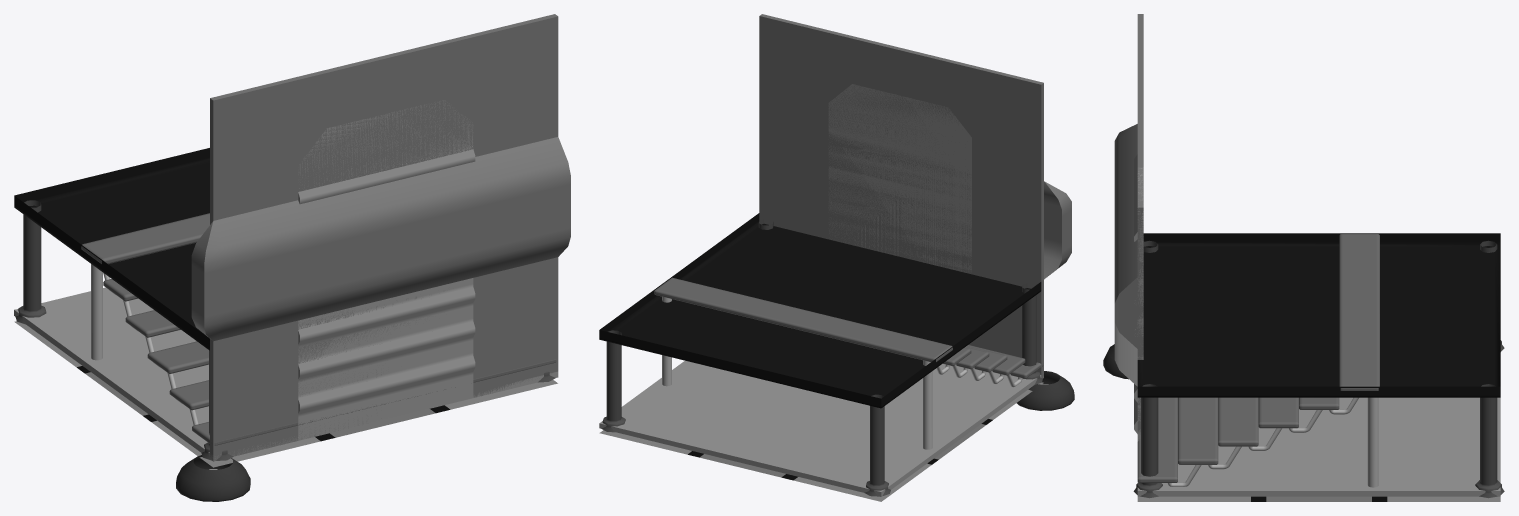
The model's file is SlimyModels_BaseModularPieces.fbx.
3 renders of one model, left to right at view 1: azimuth 30°, elevation 25°; view 2: azimuth 150°, elevation 25°; view 3: azimuth 270°, elevation 25°, orthographic. The views are drawn at different scales.
Parts seen in each view (by area): view 1: Wall3m, DoorFrame3m, Door, Support, Ceiling3m, Stairs, Floor3m, WallCorner3m, Light, CornerFill; view 2: Wall3m, Support, DoorFrame3m, Ceiling3m, Door, Stairs, Floor3m, CornerFill, Light, WallCorner3m; view 3: Support, Ceiling3m, Stairs, Wall3m, DoorFrame3m, Floor3m, Door.
Boxes of the visible parts, x1,y1,x2,y2 form: Wall3m: (210, 14, 570, 461); DoorFrame3m: (212, 14, 570, 461); Door: (298, 100, 475, 440); Support: (14, 148, 555, 460); Ceiling3m: (14, 287, 558, 461); Stairs: (81, 213, 556, 445); Floor3m: (14, 321, 557, 467); WallCorner3m: (191, 221, 225, 340); Light: (176, 455, 250, 501); CornerFill: (210, 98, 218, 459); Wall3m: (759, 14, 1054, 374); Support: (599, 213, 1042, 496); DoorFrame3m: (759, 15, 1054, 374); Ceiling3m: (599, 360, 1043, 496); Door: (828, 84, 971, 344); Stairs: (654, 277, 1043, 449); Floor3m: (599, 382, 1043, 501); CornerFill: (1036, 83, 1043, 378); Light: (1016, 371, 1074, 410); WallCorner3m: (1044, 181, 1071, 279); Support: (1133, 233, 1504, 498); Ceiling3m: (1137, 397, 1500, 496); Stairs: (1137, 234, 1379, 487); Wall3m: (1114, 14, 1143, 385); DoorFrame3m: (1114, 14, 1143, 439); Floor3m: (1137, 496, 1500, 501); Door: (1134, 154, 1143, 441).
Size of what is drawn, in the model's own units: 3.32 by 3.2 by 3.32.
